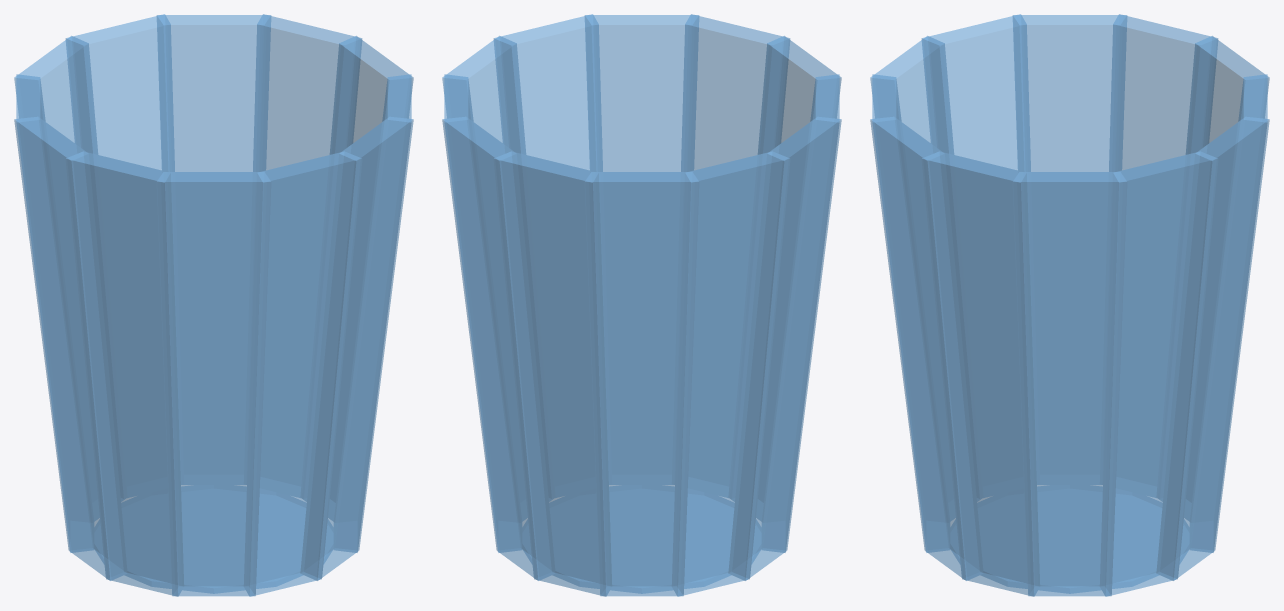
File: red_solo_cup_collision.glb
The picture shows the model from 3 angles, left to right: view 1: azimuth 30°, elevation 25°; view 2: azimuth 150°, elevation 25°; view 3: azimuth 270°, elevation 25°; orthographic projection.
Parts seen in each view (by area): view 1: COL_Wall_09, COL_Wall_08, COL_Wall_10, COL_Wall_03, COL_Wall_02, COL_Wall_04, COL_Wall_11, COL_Wall_07, COL_Bottom, COL_Wall_12, COL_Wall_06, COL_Wall_01 (+1 smaller); view 2: COL_Wall_05, COL_Wall_06, COL_Wall_04, COL_Wall_11, COL_Wall_10, COL_Wall_12, COL_Wall_07, COL_Wall_03, COL_Bottom, COL_Wall_02, COL_Wall_08, COL_Wall_01 (+1 smaller); view 3: COL_Wall_01, COL_Wall_02, COL_Wall_12, COL_Wall_07, COL_Wall_06, COL_Wall_08, COL_Wall_03, COL_Wall_11, COL_Bottom, COL_Wall_04, COL_Wall_10, COL_Wall_05 (+1 smaller).
Boxes of the visible parts, x1,y1,x2,y2 form: COL_Wall_09: (156,172,271,596); COL_Wall_08: (65,151,183,596); COL_Wall_10: (244,151,362,596); COL_Wall_03: (156,15,271,484); COL_Wall_02: (253,14,362,497); COL_Wall_04: (65,14,174,497); COL_Wall_11: (300,117,413,580); COL_Wall_07: (14,117,127,580); COL_Bottom: (94,485,333,593); COL_Wall_12: (334,74,411,552); COL_Wall_06: (16,74,93,552); COL_Wall_01: (302,36,413,521); COL_Wall_05: (584,172,699,596); COL_Wall_06: (672,151,790,596); COL_Wall_04: (493,151,611,596); COL_Wall_11: (584,15,699,484); COL_Wall_10: (681,14,790,497); COL_Wall_12: (493,14,602,497); COL_Wall_07: (728,117,841,580); COL_Wall_03: (442,117,555,580); COL_Bottom: (522,485,761,593); COL_Wall_02: (444,74,521,552); COL_Wall_08: (762,74,839,552); COL_Wall_01: (442,36,553,521); COL_Wall_01: (1012,172,1127,596); COL_Wall_02: (1100,151,1218,596); COL_Wall_12: (921,151,1039,596); COL_Wall_07: (1012,15,1127,484); COL_Wall_06: (1109,14,1218,497); COL_Wall_08: (921,14,1030,497); COL_Wall_03: (1156,117,1269,580); COL_Wall_11: (870,117,983,580); COL_Bottom: (950,485,1189,593); COL_Wall_04: (1190,74,1267,552); COL_Wall_10: (872,74,949,552); COL_Wall_05: (1158,36,1269,521).
Size of the model in its own units: 0.0961 by 0.1175 by 0.0961.
